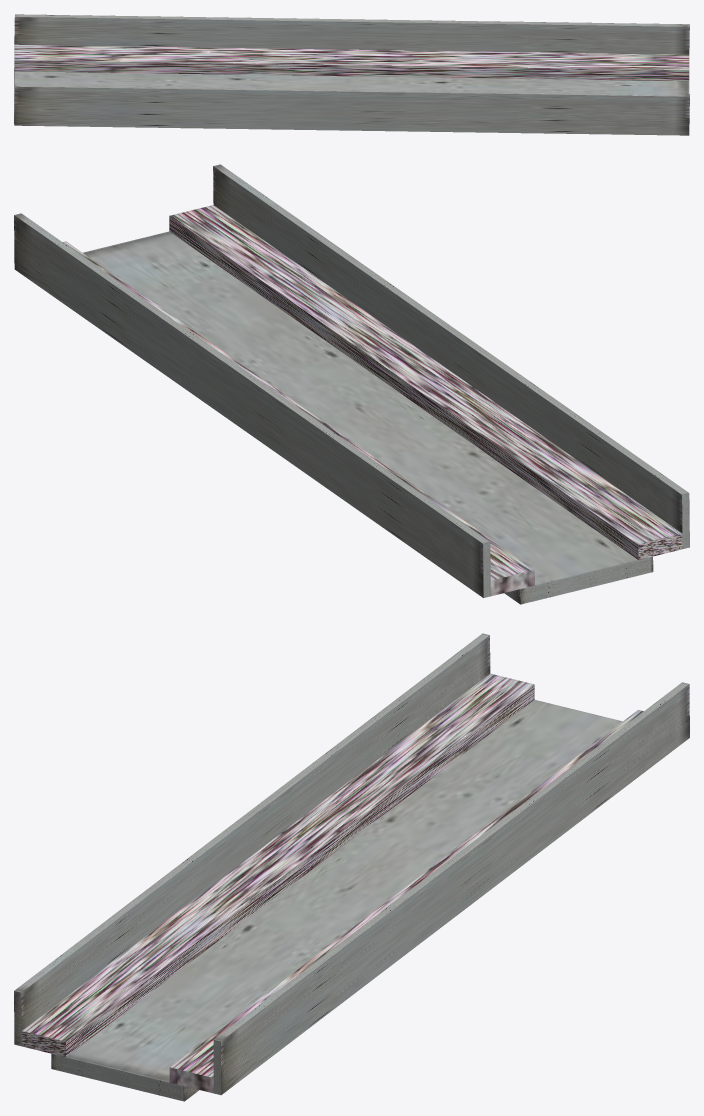
Rendered from GMLID_BUI100628_817_8083.dae.
3 views of the same model, one above another, from view 1: azimuth 30°, elevation 25°; view 2: azimuth 150°, elevation 25°; view 3: azimuth 270°, elevation 25° (orthographic). The views are drawn at different scales.
Bounding box in the file's own units: 32.81 × 23.77 × 3.25.
1 material, 1 textured.
